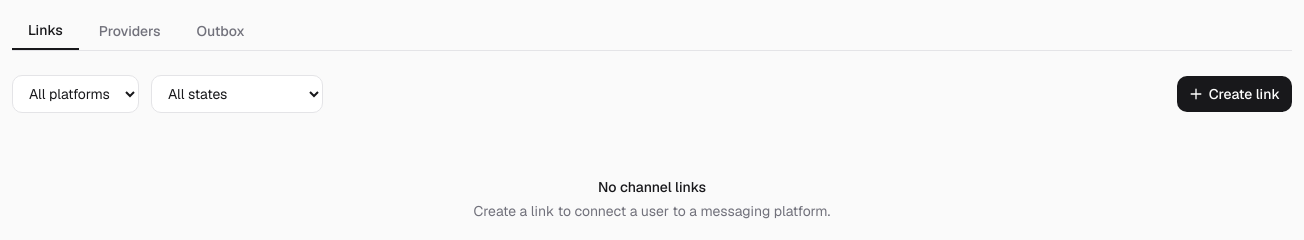
Scenario: ChannelsView › switches to outbox tab
Click the tab "Outbox". click: (221, 31)
box: [180,12,261,50]
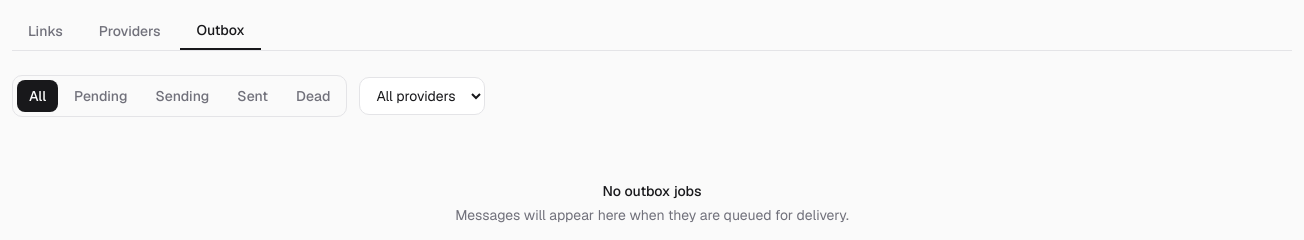
Result: the text "No outbox jobs" is shown at [602,182,702,200]
